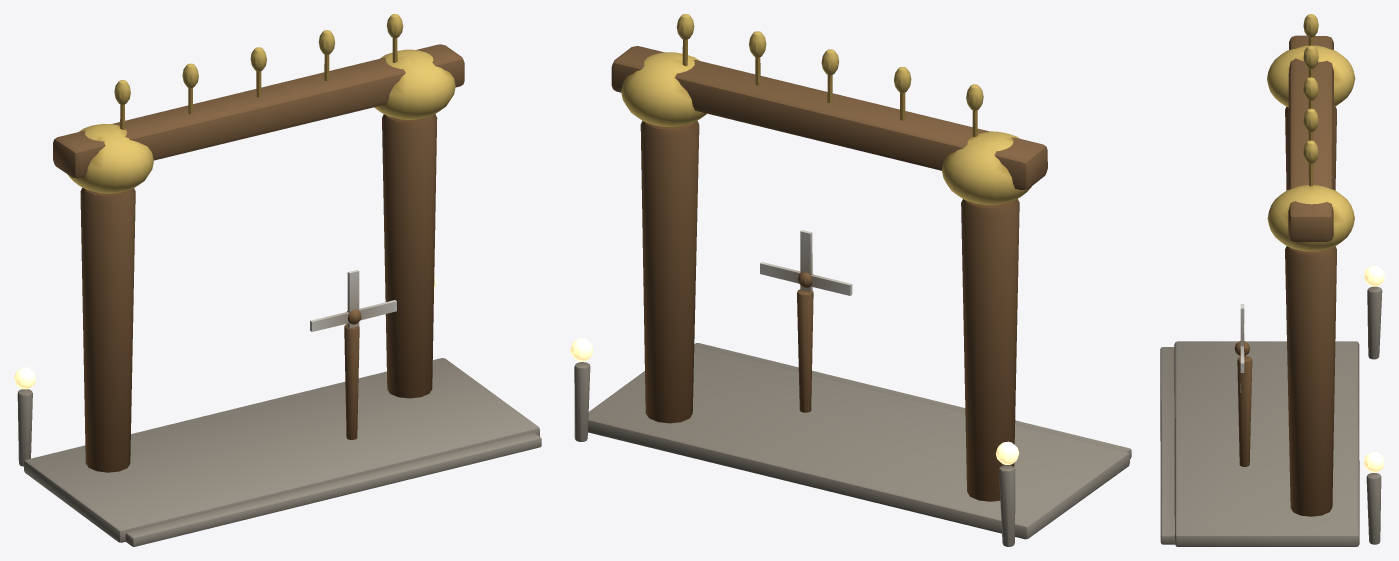
3 renders of one model, left to right at view 1: azimuth 30°, elevation 25°; view 2: azimuth 150°, elevation 25°; view 3: azimuth 270°, elevation 25°, orthographic. The views are drawn at different scales.
Visible parts, largest first — view 1: gate_e2a7eb50; view 2: gate_e2a7eb50; view 3: gate_e2a7eb50.
Part boxes in pixels (box(x1,y1,x2,y2)): gate_e2a7eb50: box(14, 14, 541, 546); gate_e2a7eb50: box(570, 14, 1131, 546); gate_e2a7eb50: box(1160, 14, 1384, 546).
Bounding box in the file's own units: 5.27 × 4.69 × 2.55.
